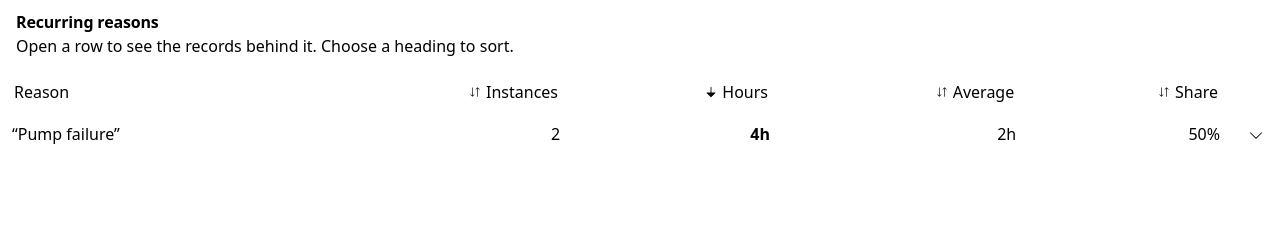
Test: CategoryTable › opens a row to the records behind it
The width and height of the screenshot is (1280, 236).
Click the button named "Show the records for Pump failure": (1256,135) [1240, 119, 1272, 151]
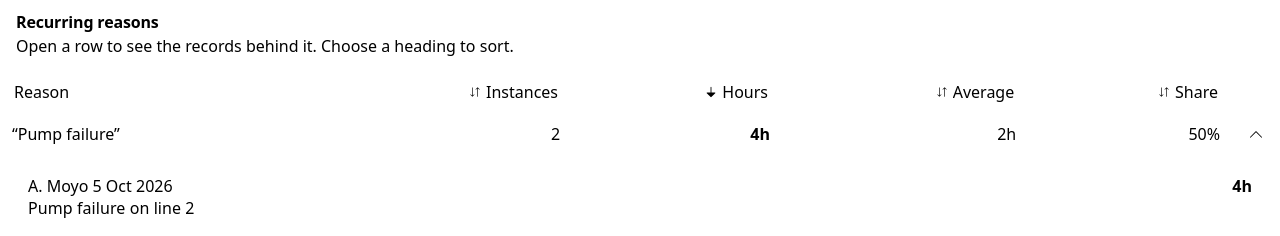
Check: the list named "Records for Pump failure" shows "Pump failure on line 2", box [28, 197, 195, 219]
Check: the button named "Hide the records for Pump failure" is expanded, box [1240, 119, 1272, 151]
